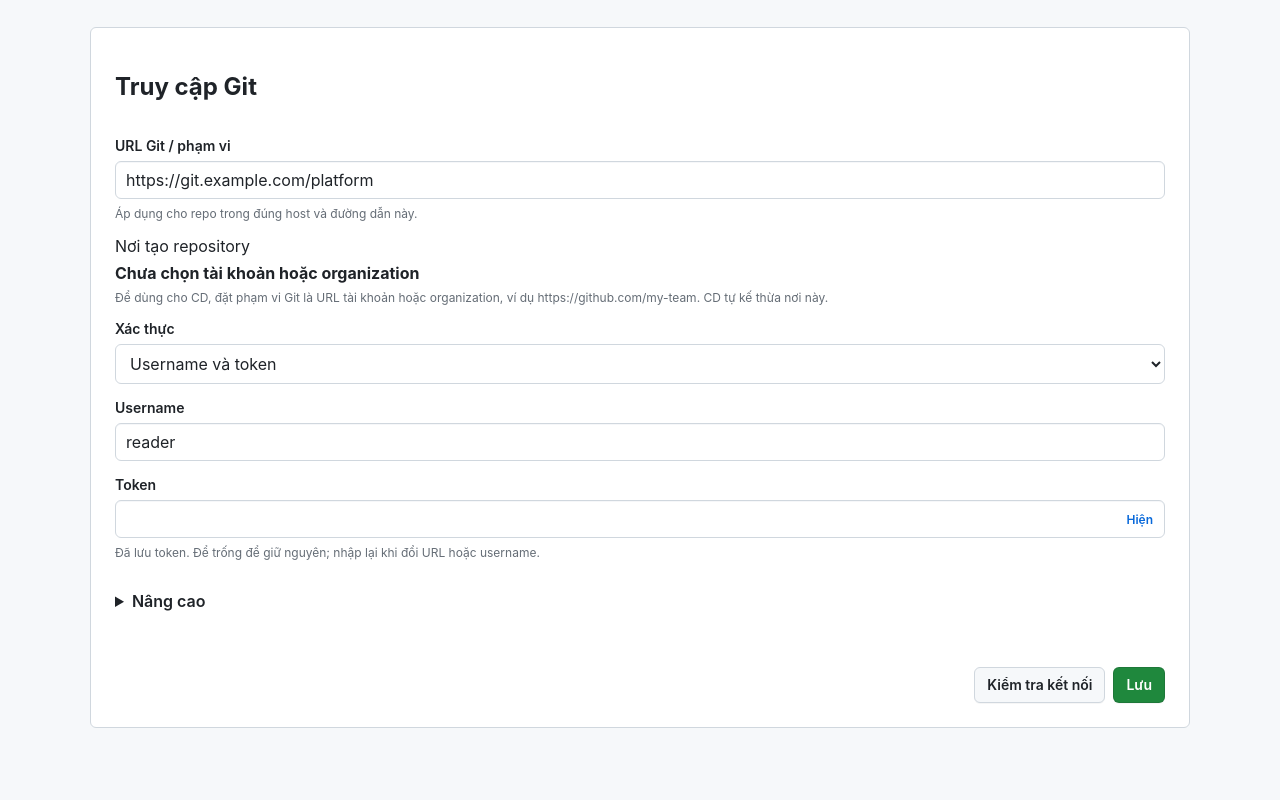
Scenario: tests a draft without saving and invalidates its result on edit
This screenshot has width=1280, height=800.
(page scrolled)
Expected: the password field labelled "Token" is shown, [115,500,1165,538]
Click the button "Kiểm tra kết nối".
click(1040, 685)  # box [974,667,1106,703]
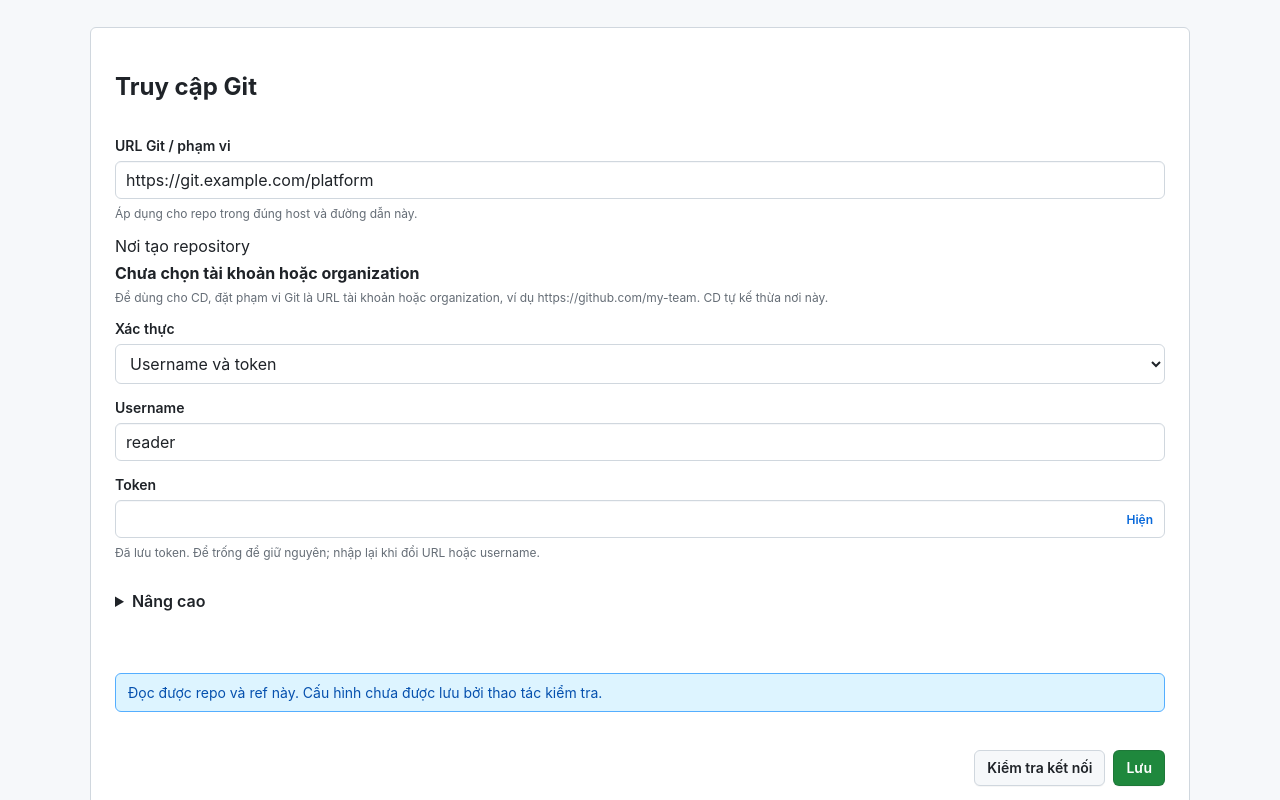
Expected: the text "Đọc được repo và ref này. Cấu hình chưa được lưu bởi thao tác kiểm tra." is shown, [115,673,1165,712]
Type "/more" into the field labelled "URL Git / phạm vi".
click(640, 180); type("/more")  # box [115,161,1165,199]
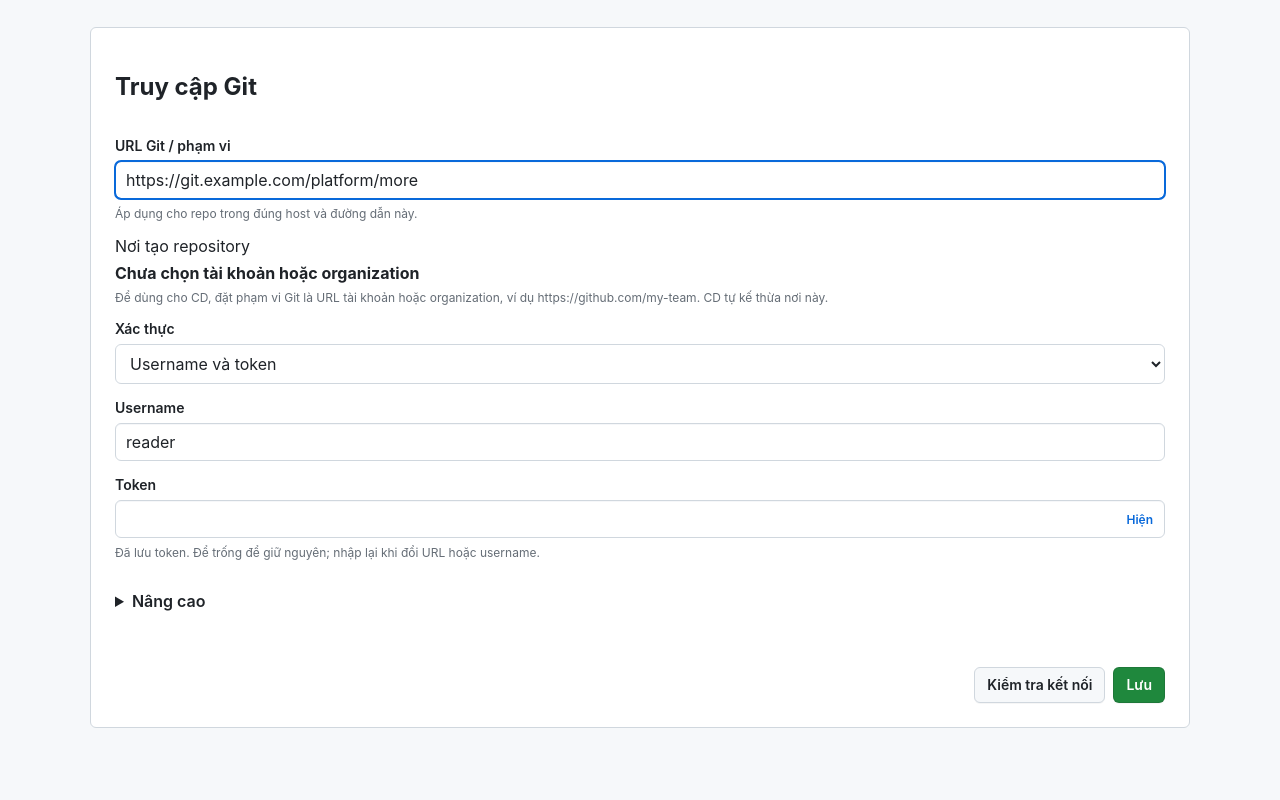
Expected: the text "Đọc được repo và ref này. Cấu hình chưa được lưu bởi thao tác kiểm tra." is gone
